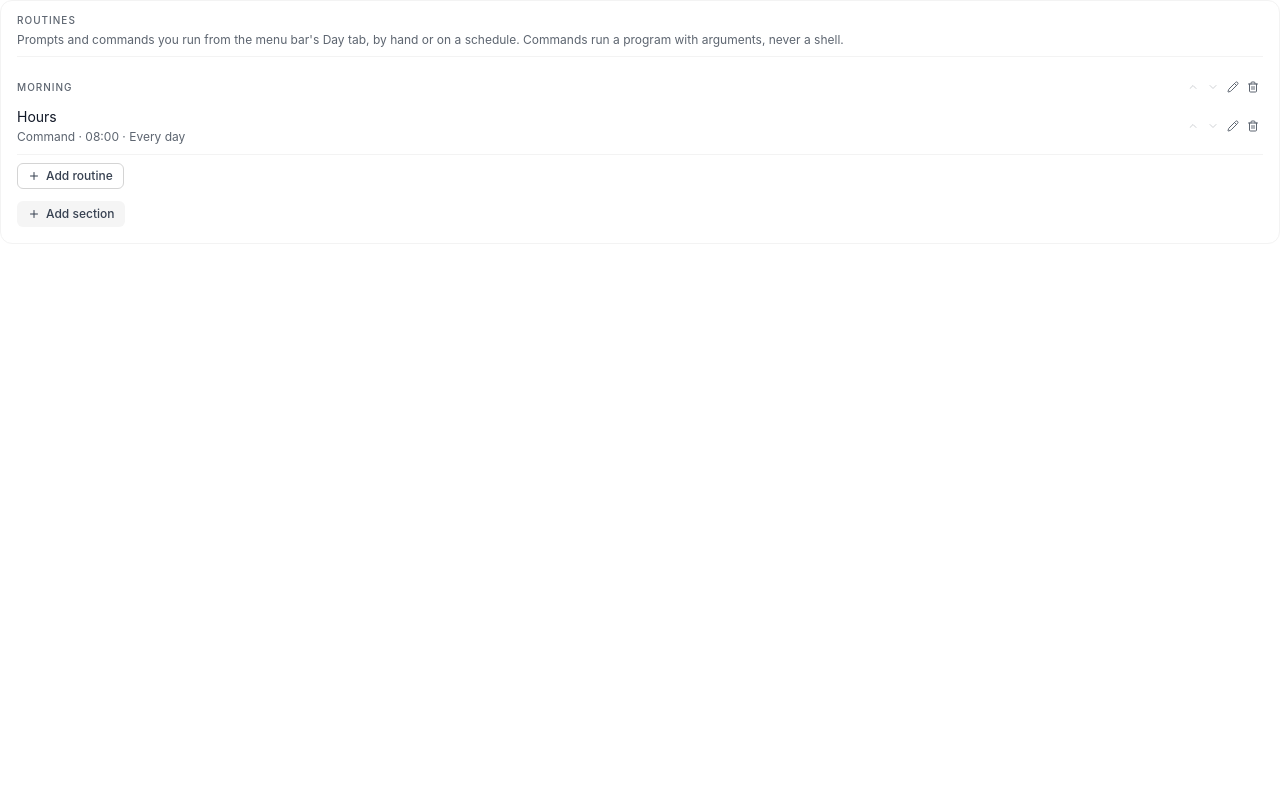
RoutinesCard › shows the save error inline
This screenshot has width=1280, height=800.
What coordinates should you click on to do the following:
click the button named "Edit Hours"
I would click on:
 (1233, 126)
Its box is [1223,116,1243,136].
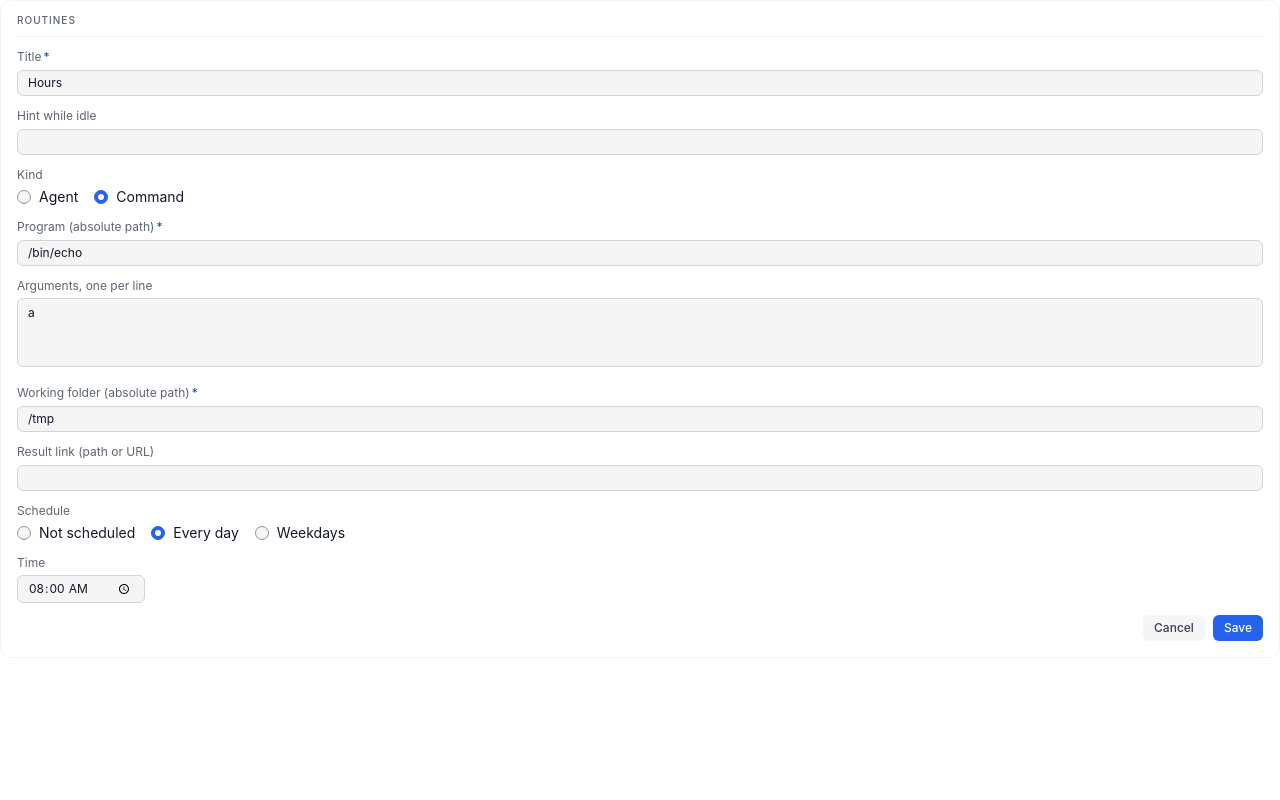
What coordinates should you click on to do the following:
click the button "Save"
I would click on:
 (1238, 628)
Its box is [1213,615,1263,641].
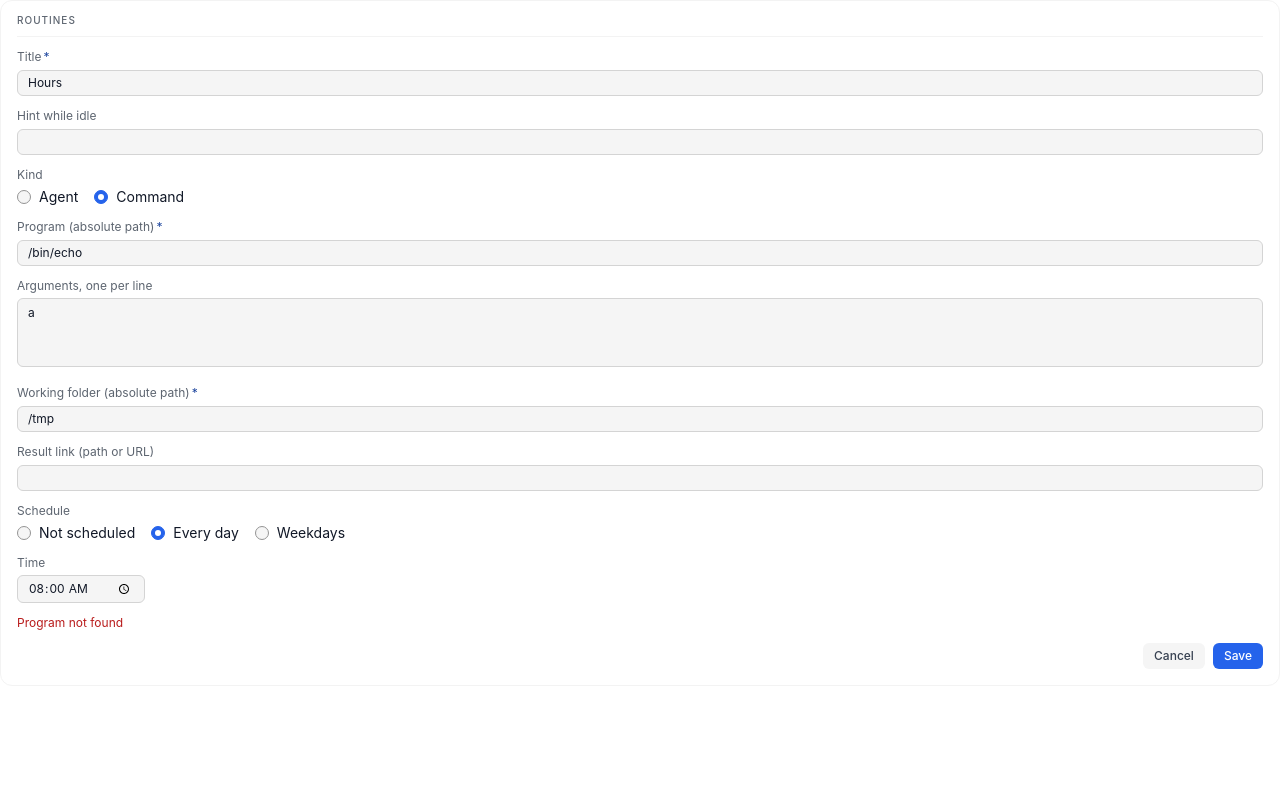
Expected: the text "Program not found" is shown, [17,615,123,630]
